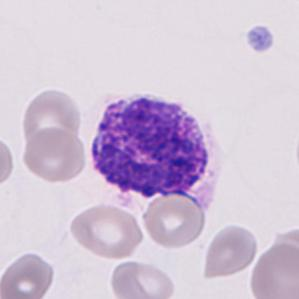Basophil: (84, 85, 229, 221)
Platelets: (243, 22, 277, 55)
RBC: (66, 201, 147, 260), (19, 85, 83, 151), (19, 126, 87, 184), (140, 192, 208, 249), (201, 221, 260, 281), (246, 239, 298, 299), (107, 258, 178, 299), (0, 248, 57, 298), (269, 225, 299, 291), (0, 131, 16, 190), (293, 121, 299, 185)
